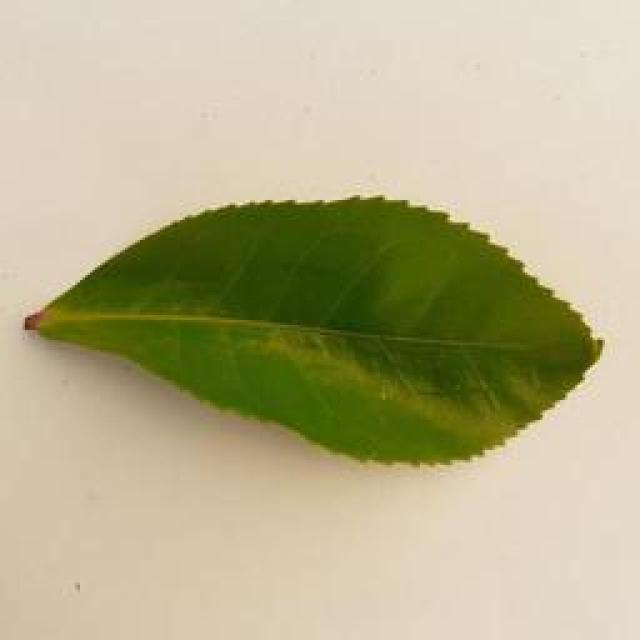Healthy: (0, 174, 626, 465)
